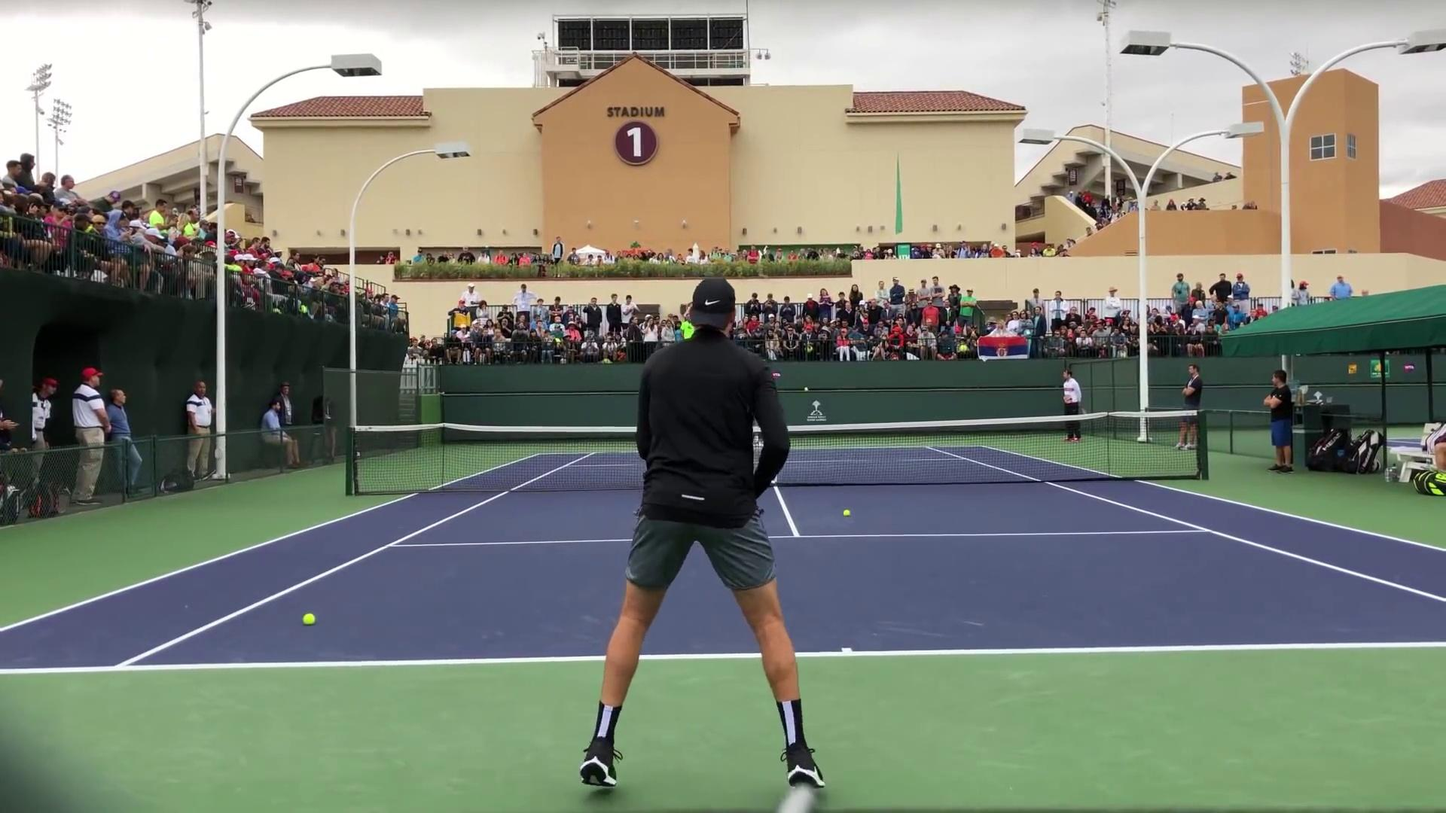ball: (302, 613, 316, 625), (843, 509, 851, 518), (802, 385, 810, 392)
